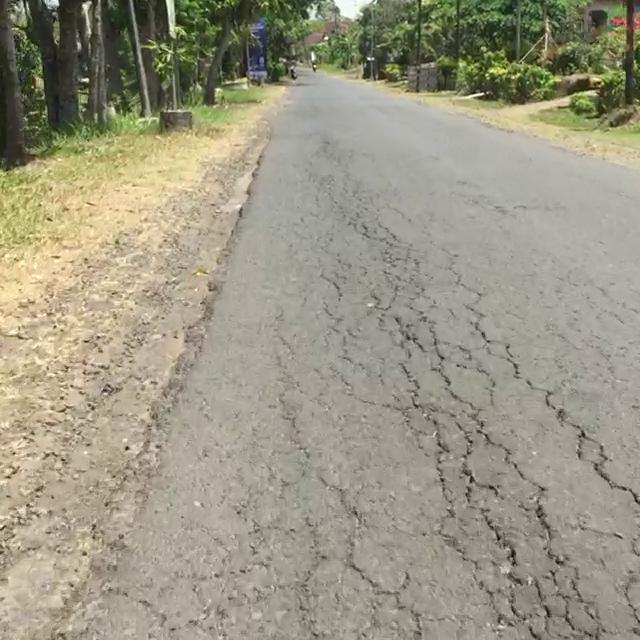retak_kulit_buaya: (302, 194, 625, 640), (470, 437, 640, 640)
